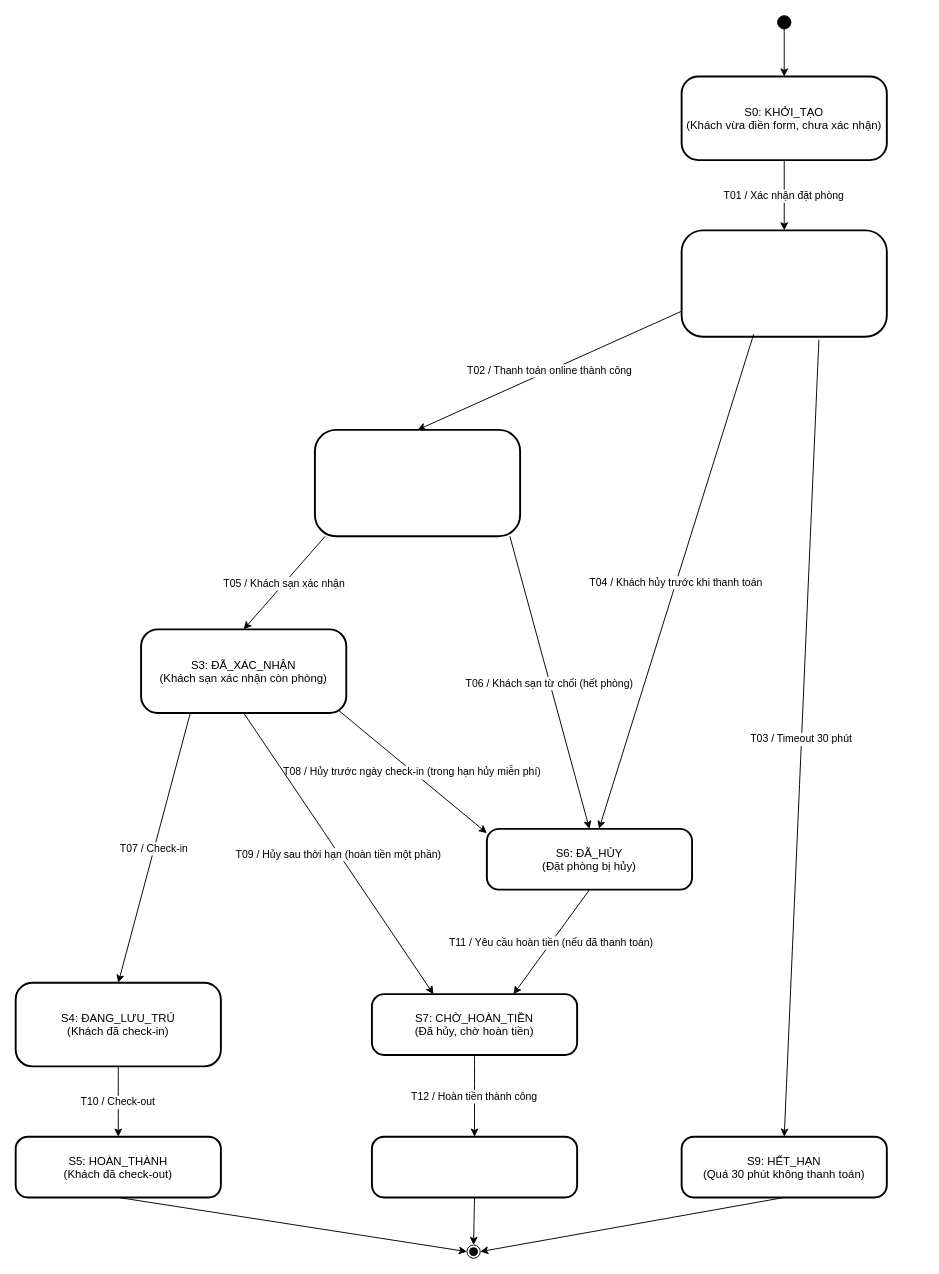
This 939x1274 diagram has some shape labels left out. Each missing label, with the centre of its shape:
S1: CHỜ_THANH_TOÁN (Đặt phòng ghi nhận, chờ thanh toán - timeout 30 phút): the point at 783,283
S2: ĐÃ_THANH_TOÁN (Thanh toán thành công, chờ KS xác nhận): the point at 417,482
S8: ĐÃ_HOÀN_TIỀN (Hoàn tiền thành công): the point at 474,1166
